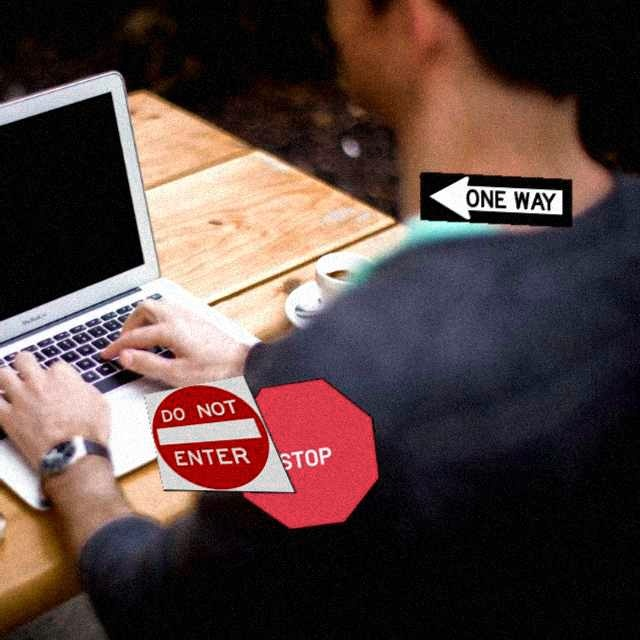DO_NOT_ENTER: (143, 374, 296, 493)
ONE_WAY_ left: (419, 171, 572, 227)
STOP: (228, 377, 380, 530)
